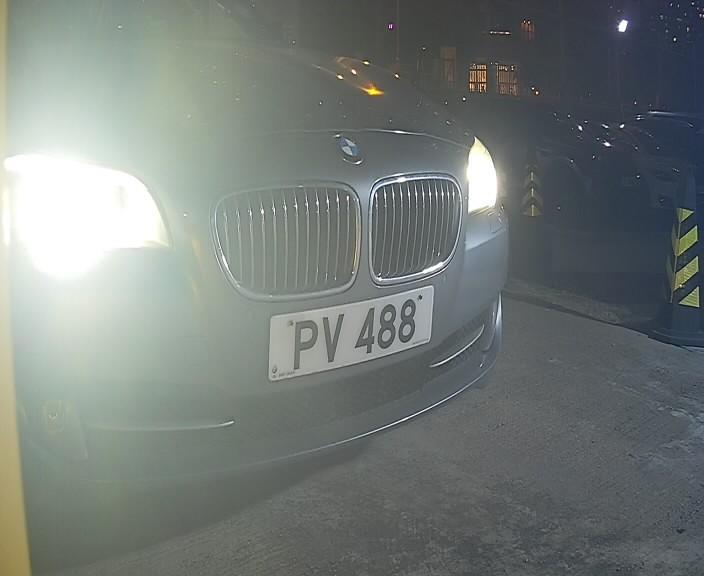privatecar: (19, 3, 519, 507)
